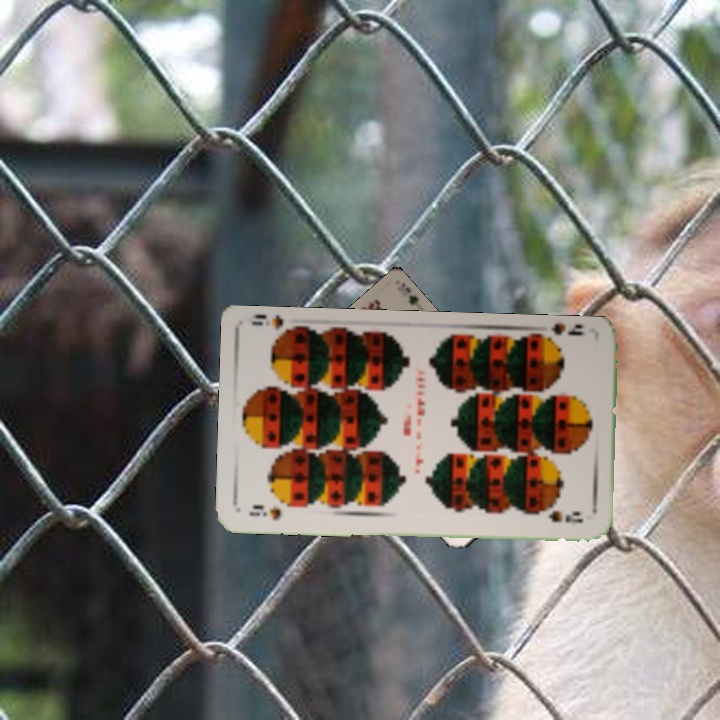S9: (535, 322, 588, 349), (246, 500, 284, 522)
